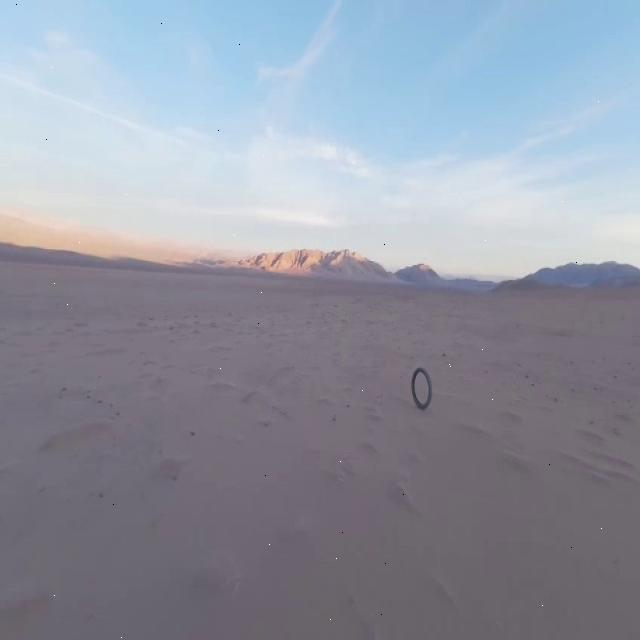Tire: (411, 367, 432, 408)
